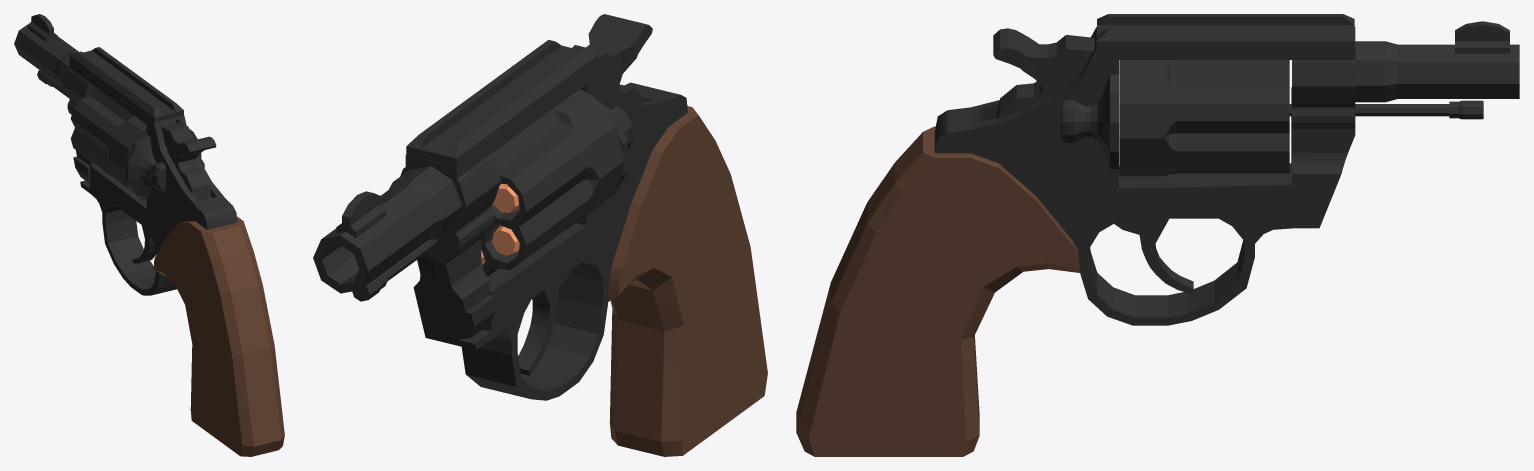
The model's file is low_poly_.38_detective_revolver.glb.
The picture shows the model from 3 angles, left to right: view 1: azimuth 30°, elevation 25°; view 2: azimuth 150°, elevation 25°; view 3: azimuth 270°, elevation 25°; orthographic projection. The views are drawn at different scales.
Parts seen in each view (by area): view 1: Grip, Frame, Revolving_Cylinder, Rear_Sights, Snub_38_Barrel, Hammer, Back_Plate_Right, Cylinder_Arm, Trigger; view 2: Grip, Frame, Revolving_Cylinder, Snub_38_Barrel, Rear_Sights, Cylinder_Arm, Hammer, Trigger, Extractor_Rod, Back_Plate_Right, Bullet5, Bullet6; view 3: Grip, Frame, Revolving_Cylinder, Snub_38_Barrel, Rear_Sights, Hammer, Back_Plate_Left, Extractor_Rod, Trigger.
Part boxes in pixels (x1,y1,x2,y2): Grip: (153, 216, 284, 456); Frame: (63, 61, 237, 295); Revolving_Cylinder: (70, 87, 194, 199); Rear_Sights: (69, 47, 183, 122); Snub_38_Barrel: (14, 14, 78, 91); Hammer: (161, 122, 216, 200); Back_Plate_Right: (125, 134, 165, 197); Cylinder_Arm: (67, 100, 94, 183); Trigger: (132, 225, 155, 263); Grip: (608, 106, 767, 456); Frame: (400, 63, 687, 400); Revolving_Cylinder: (481, 89, 624, 276); Snub_38_Barrel: (313, 166, 461, 293); Rear_Sights: (406, 40, 598, 166); Cylinder_Arm: (429, 208, 495, 339); Hammer: (572, 14, 652, 103); Trigger: (518, 271, 570, 375); Extractor_Rod: (352, 239, 437, 301); Back_Plate_Right: (596, 99, 632, 198); Bullet5: (492, 225, 519, 255); Bullet6: (493, 183, 519, 212); Grip: (796, 126, 1080, 456); Frame: (934, 27, 1355, 325); Revolving_Cylinder: (1119, 60, 1289, 176); Snub_38_Barrel: (1355, 21, 1519, 102); Rear_Sights: (1097, 14, 1354, 48); Hammer: (993, 28, 1094, 118); Back_Plate_Left: (1060, 74, 1118, 168); Extractor_Rod: (1289, 100, 1483, 119); Trigger: (1114, 218, 1193, 294).
Size of the model in its own units: 0.0456 by 0.1585 by 0.2481.
2 materials, 2 textured.
